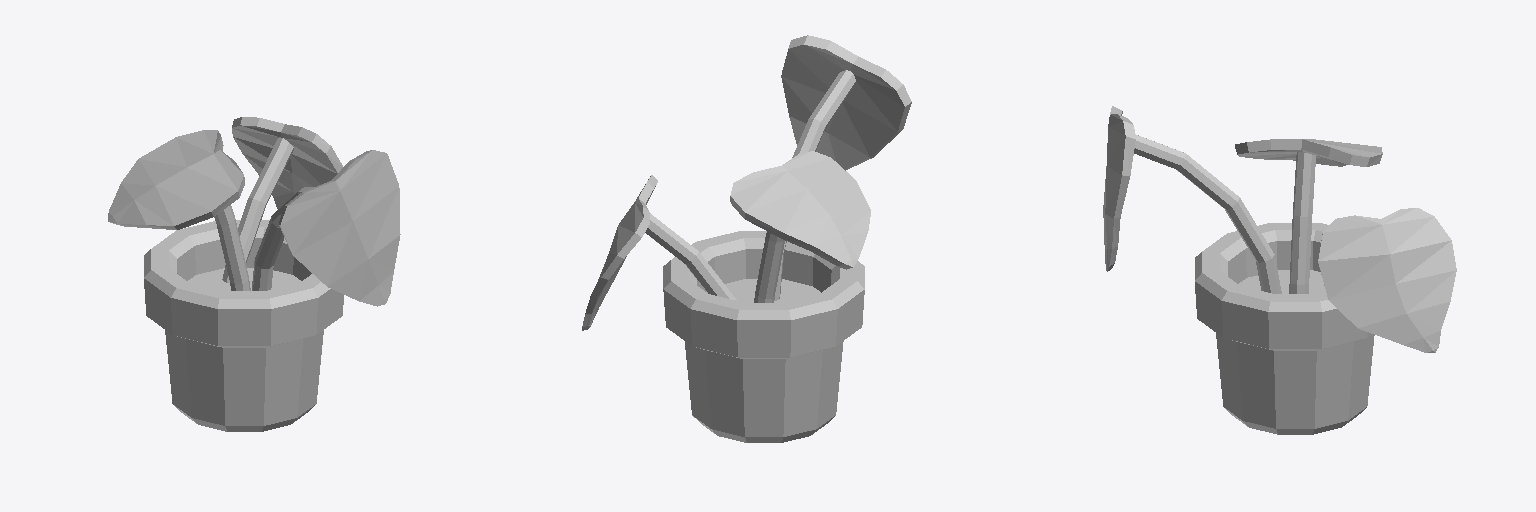
The model's file is Monstera Tiny.obj.
The picture shows the model from 3 angles: view 1: azimuth 30°, elevation 25°; view 2: azimuth 150°, elevation 25°; view 3: azimuth 270°, elevation 25°; orthographic projection.
Parts seen in each view (by area): view 1: Monstera Tiny; view 2: Monstera Tiny; view 3: Monstera Tiny.
Part boxes in pixels (bbox=[...]): Monstera Tiny: bbox=[108, 117, 400, 431]; Monstera Tiny: bbox=[582, 35, 911, 442]; Monstera Tiny: bbox=[1103, 106, 1456, 434].
Size of the model in its own units: 0.6697 by 0.8435 by 0.8774.